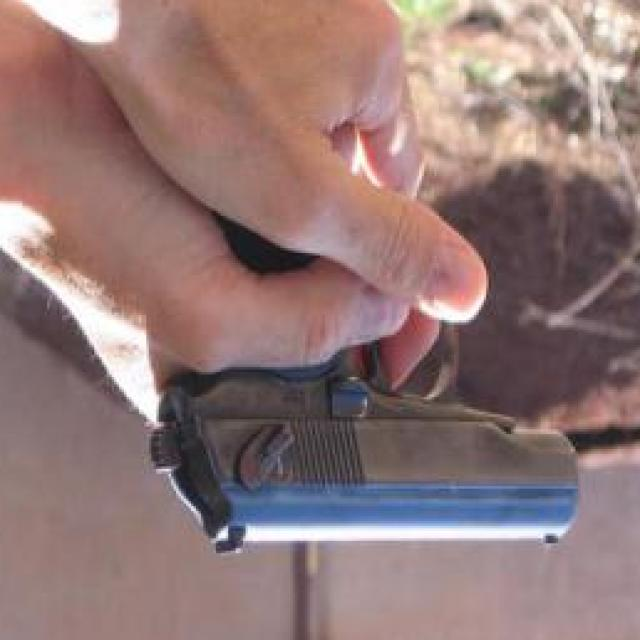pistol: (148, 206, 580, 553)
